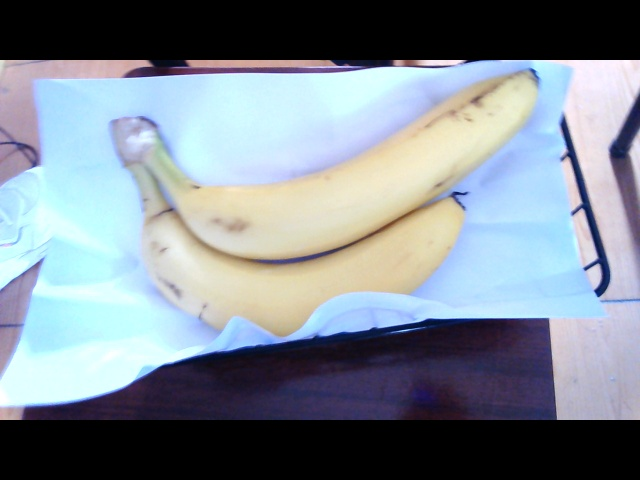banana: (101, 103, 567, 314)
